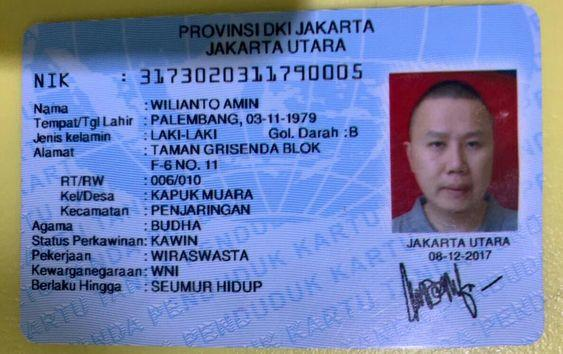ID-card: (26, 7, 546, 340)
